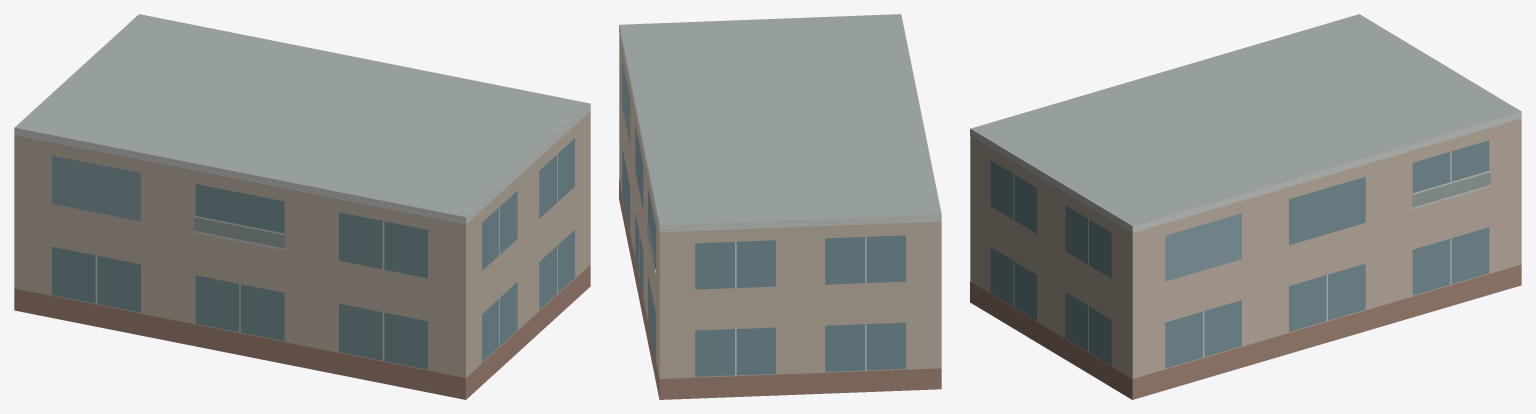
Rendered from survey-upis-33037984.glb.
3 views of the same model, side by side, from view 1: azimuth 30°, elevation 25°; view 2: azimuth 150°, elevation 25°; view 3: azimuth 270°, elevation 25° (orthographic). The views are drawn at different scales.
Visible parts, largest first — view 1: survey-upis-33037984.tmp; view 2: survey-upis-33037984.tmp; view 3: survey-upis-33037984.tmp.
Part boxes in pixels (<box>): survey-upis-33037984.tmp: <box>14,14,590,399</box>; survey-upis-33037984.tmp: <box>619,14,941,399</box>; survey-upis-33037984.tmp: <box>970,14,1521,399</box>.
Bounding box in the file's own units: 15.98 × 6.1 × 17.55.
